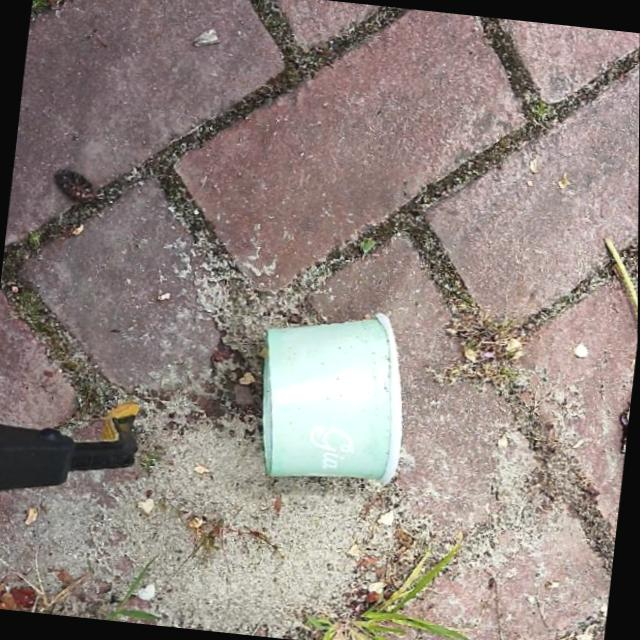Paper: (246, 297, 419, 492)
